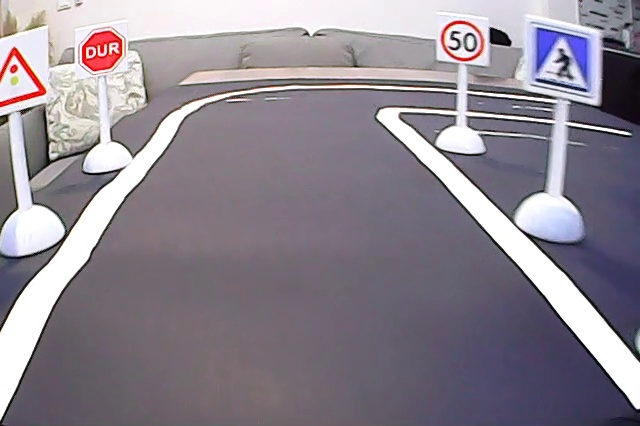pedestrian crossing: (527, 21, 600, 102)
red light: (1, 39, 47, 107)
speed limit 50: (438, 16, 487, 64)
stop sign: (78, 27, 131, 77)
